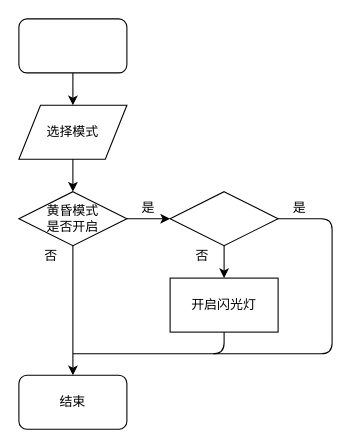
This 352x448 diagram has some shape labels left out. Each missing label, with the centre of its shape:
"开始" belongs at pixel 72 45.
"闪光灯 是否开启" belongs at pixel 223 218.
